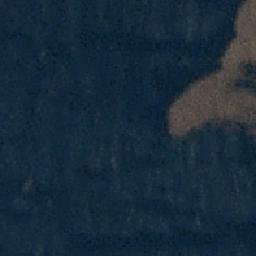debris: (187, 81, 230, 118), (233, 1, 255, 67), (168, 93, 199, 135), (198, 67, 241, 95), (231, 89, 256, 131), (222, 41, 234, 70)
